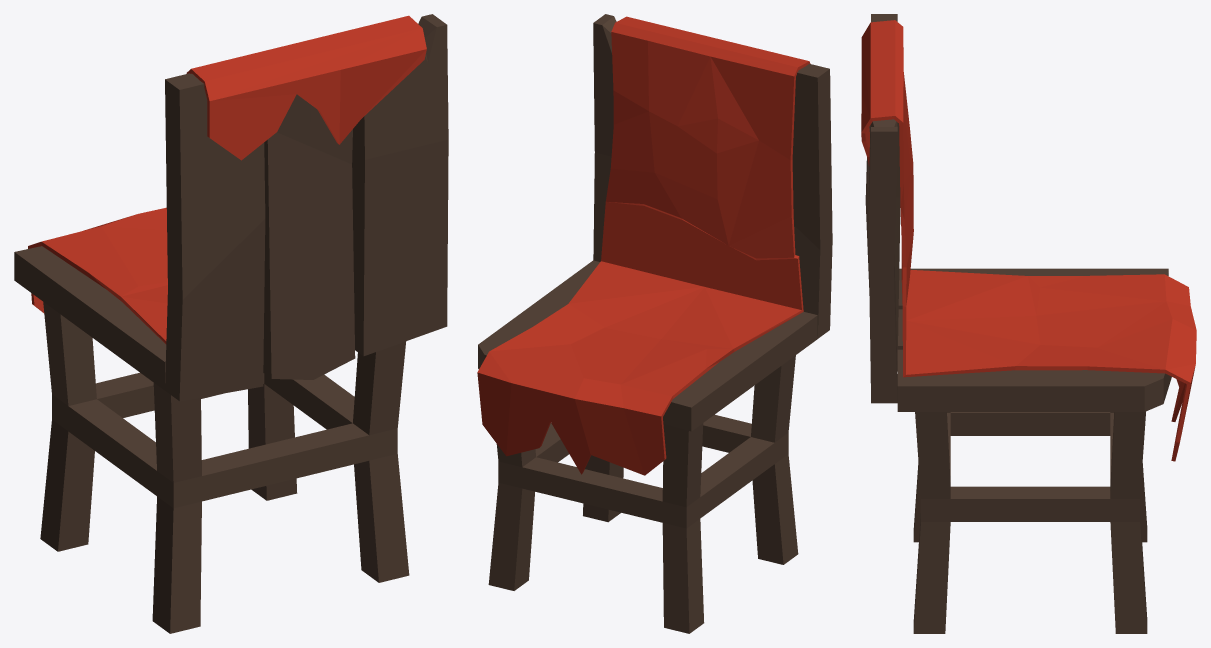
Rendered from chair_cloth.fbx.
The picture shows the model from 3 angles, left to right: view 1: azimuth 30°, elevation 25°; view 2: azimuth 150°, elevation 25°; view 3: azimuth 270°, elevation 25°; orthographic projection. The views are drawn at different scales.
Visible parts, largest first — view 1: chair_cloth; view 2: chair_cloth; view 3: chair_cloth.
Boxes of the visible parts, left/top/right/bottom form: chair_cloth: left=14, top=14, right=448, bottom=633; chair_cloth: left=477, top=14, right=832, bottom=633; chair_cloth: left=861, top=14, right=1196, bottom=633.
Bounding box in the file's own units: 69.14 × 141 × 83.36.
